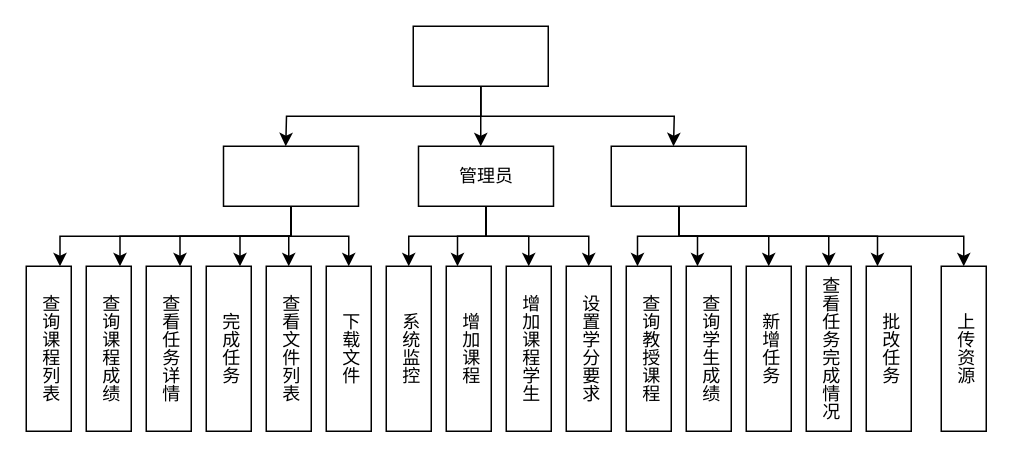
This 1013x458 diagram has some shape labels left out. The shapes that lost their labels are listed below. From the top down, each one's centre as x and y in pixels, then its label:
At [480,55]: "在线学习模块".
At [290,175]: "学生".
At [678,175]: "教师".
